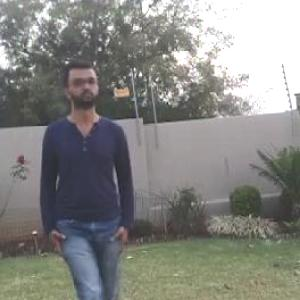follow: (33, 40, 142, 299)
